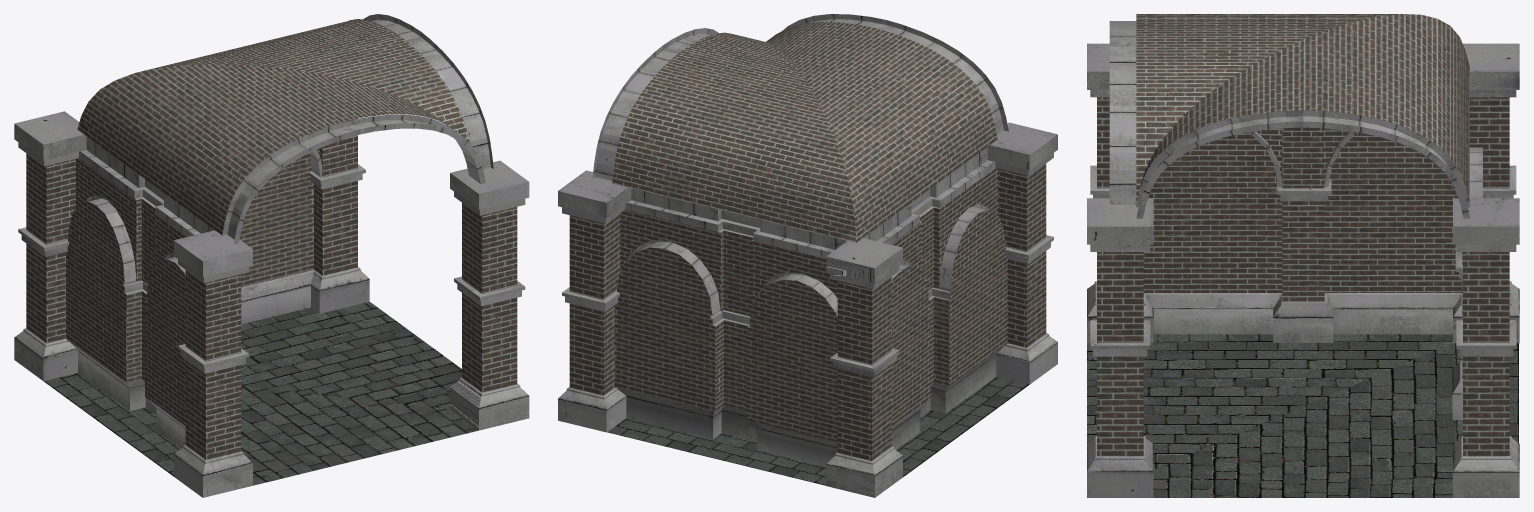
File: giro.fbx
3 views of the same model, side by side, from view 1: azimuth 30°, elevation 25°; view 2: azimuth 150°, elevation 25°; view 3: azimuth 270°, elevation 25° (orthographic). The views are drawn at different scales.
Visible parts, largest first — view 1: Plane001; view 2: Plane001; view 3: Plane001.
Boxes of the visible parts, left/top/right/bottom form: Plane001: left=14, top=14, right=529, bottom=497; Plane001: left=558, top=14, right=1057, bottom=497; Plane001: left=1087, top=14, right=1519, bottom=497.
Bounding box in the file's own units: 650 × 611 × 651.
